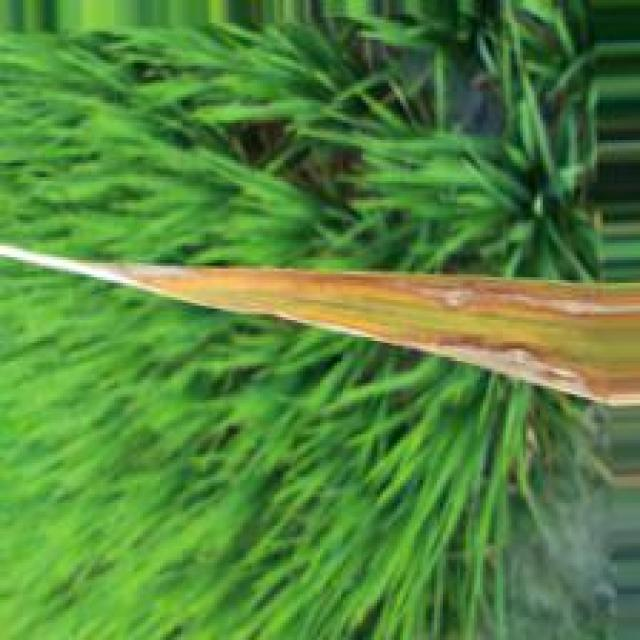Bacterial_Leaf_Blight: (0, 247, 640, 407)
